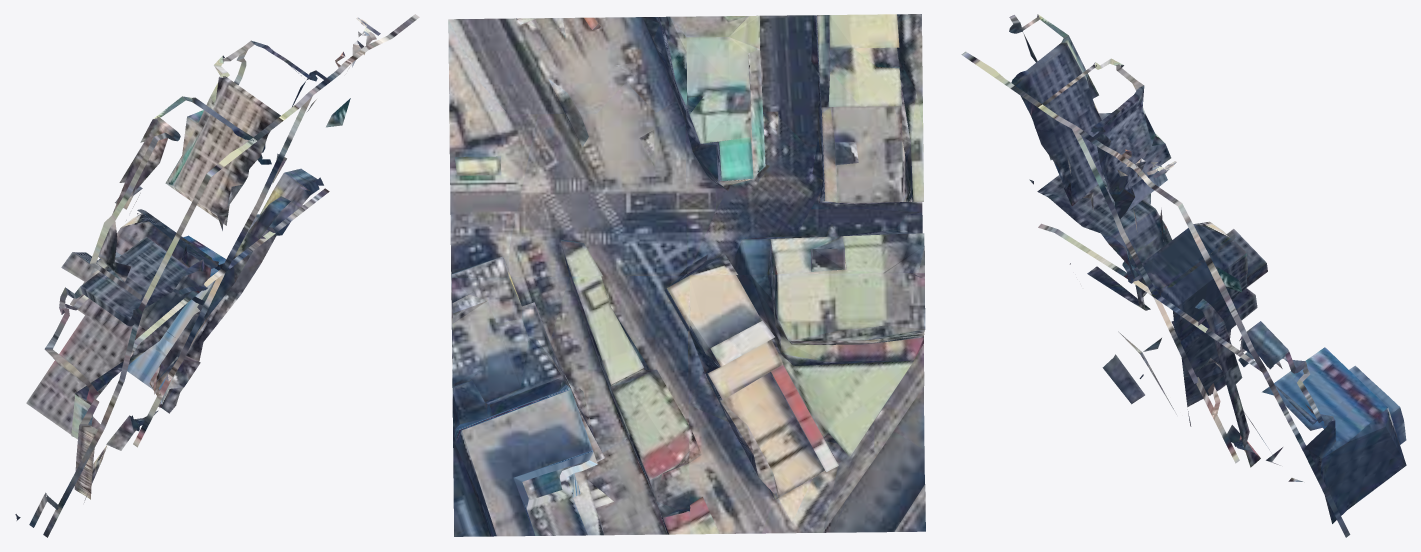
3 renders of one model, left to right at view 1: azimuth 30°, elevation 25°; view 2: azimuth 150°, elevation 25°; view 3: azimuth 270°, elevation 25°, orthographic. The views are drawn at different scales.
Size of the model in its own units: 157 by 153 by 148.
2 materials, 2 textured.
